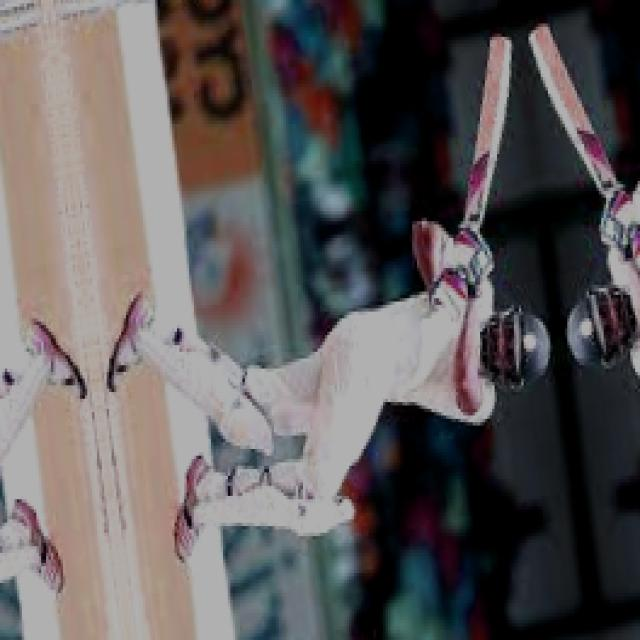toe: (490, 36, 512, 68)
